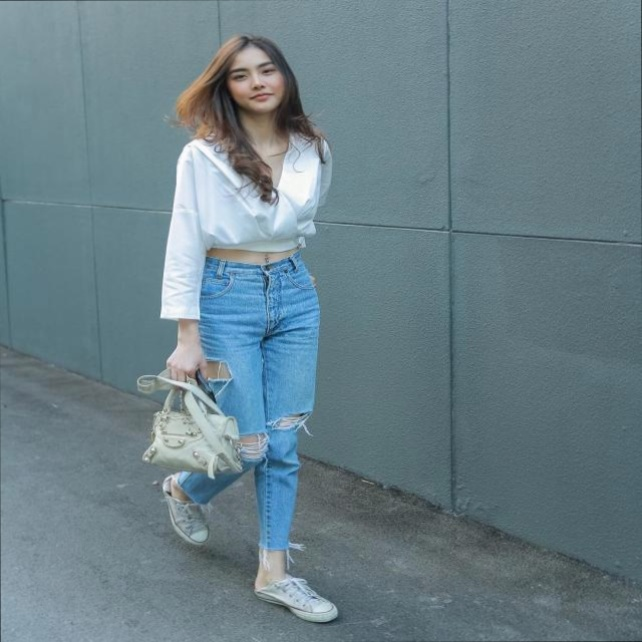Crop_Top: (205, 189, 324, 268)
low_neckline: (203, 126, 308, 251)
ripped_pants: (189, 262, 324, 549)
